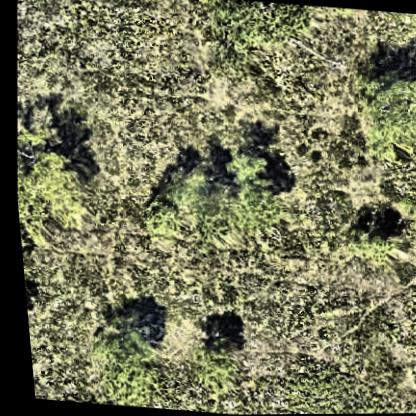tree-top: (8, 121, 85, 247), (188, 149, 284, 237), (350, 63, 416, 173), (84, 300, 157, 369), (132, 163, 198, 234), (333, 216, 394, 267), (177, 335, 229, 392)
